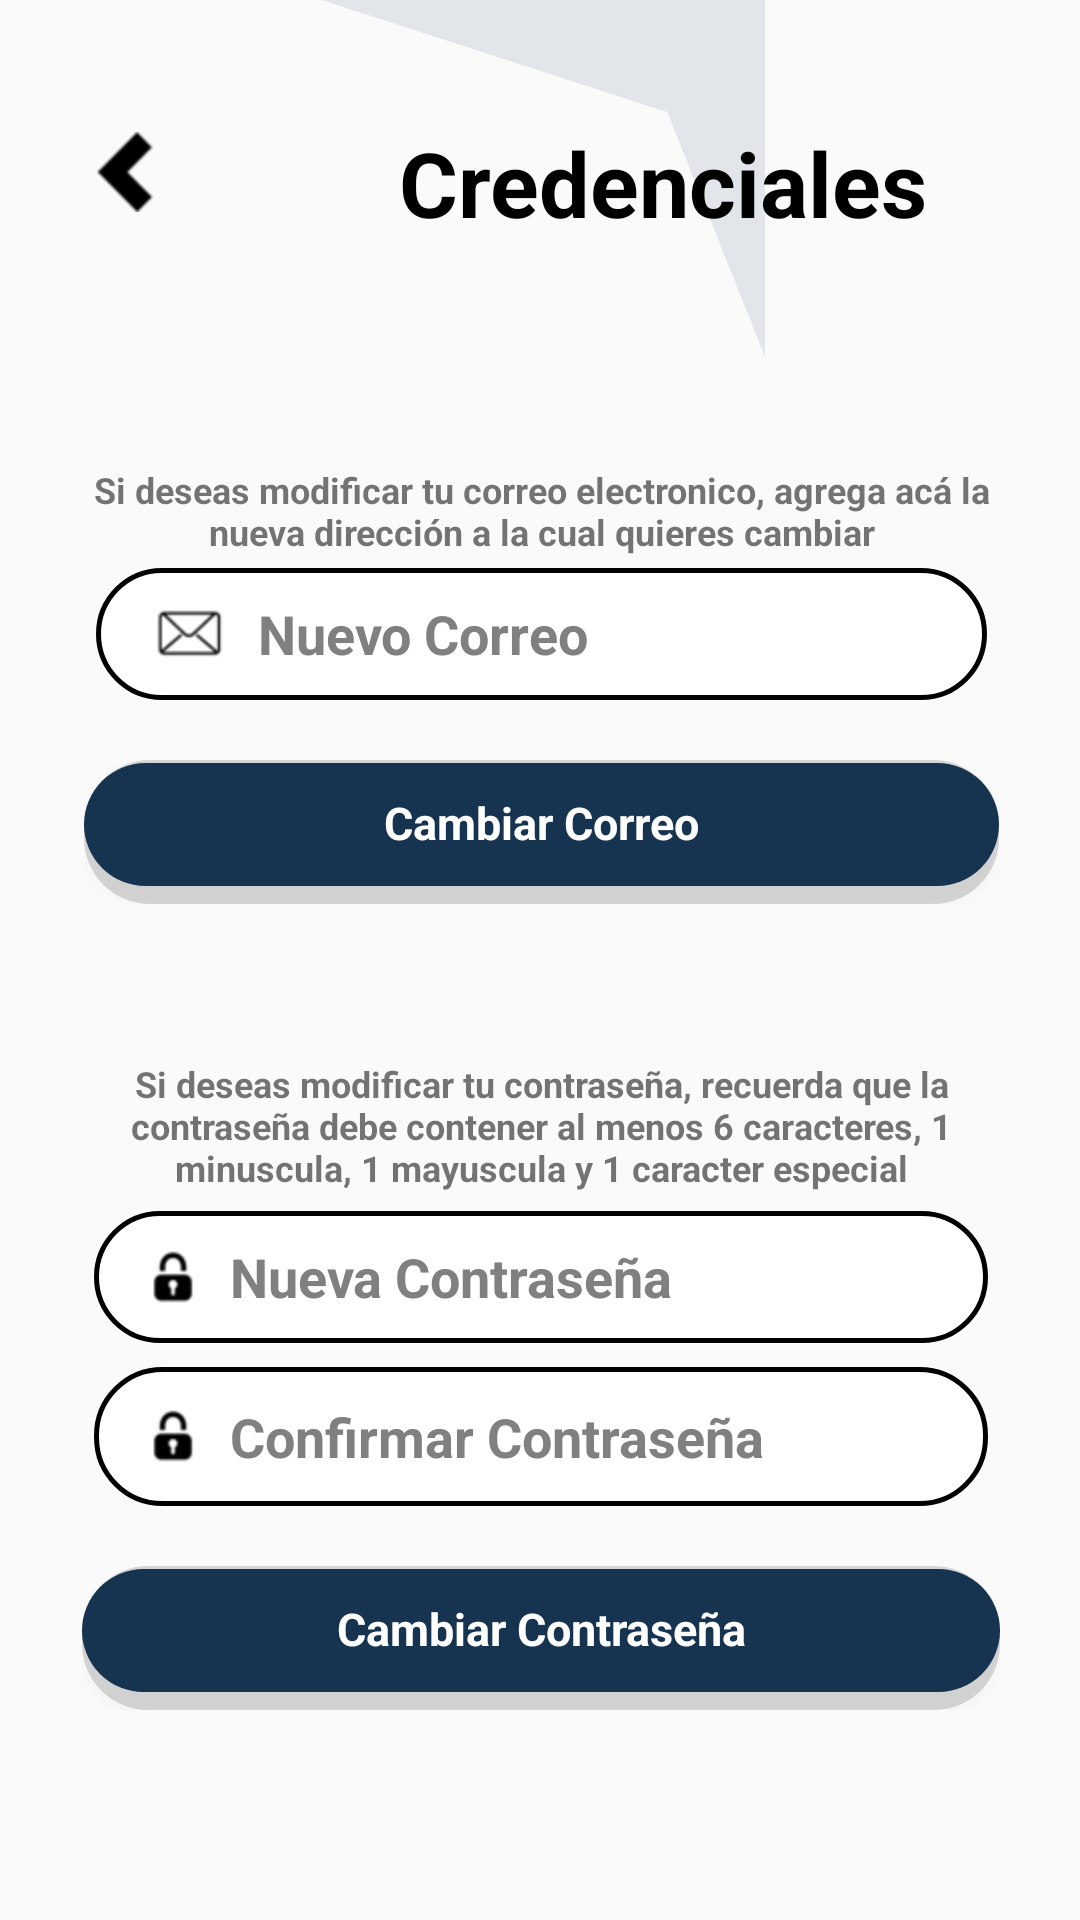

Named icons in this screenshot (1080w x 1920h) and their centers, (x=x, y=y):
back: (x=125, y=172)
